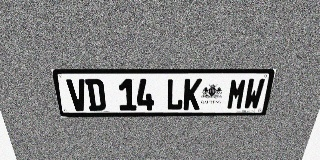1: (117, 79, 137, 111)
4: (136, 79, 154, 110)
D: (85, 79, 106, 111)
K: (183, 79, 202, 110)
L: (166, 79, 184, 110)
M: (226, 78, 248, 110)
V: (66, 79, 89, 111)
W: (243, 78, 265, 109)
